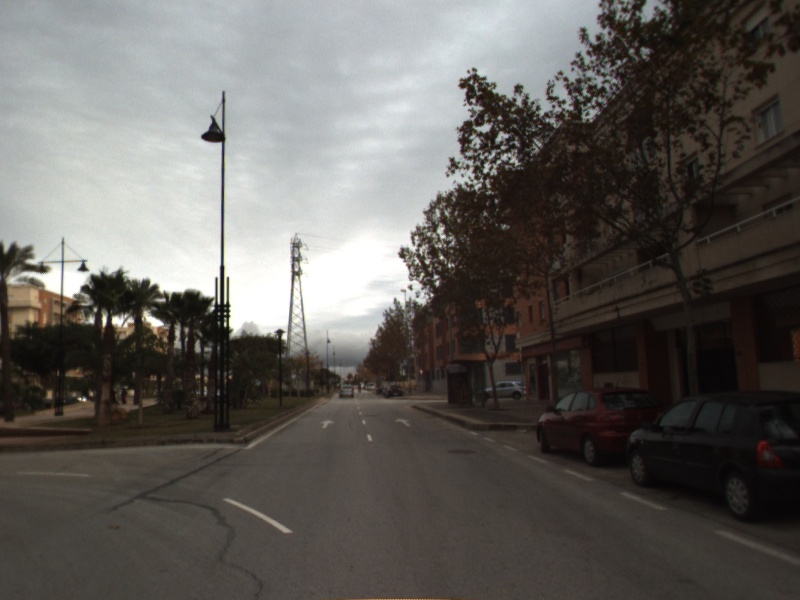STRAIGHT: (318, 418, 337, 430), (394, 416, 413, 428)
